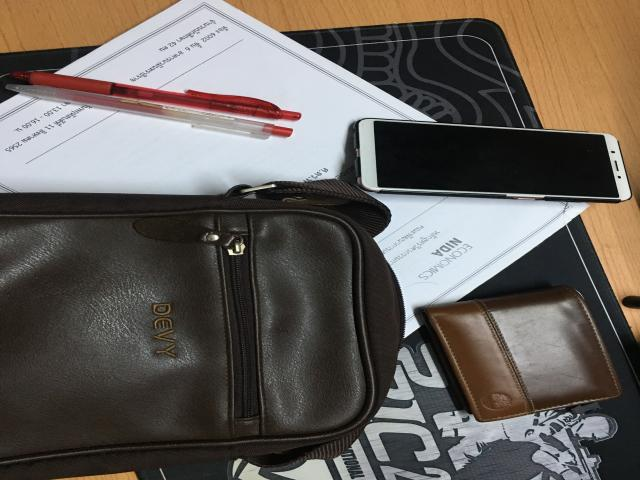Mobile phone: (357, 119, 632, 202)
Wallet: (422, 285, 622, 422)
paper: (0, 0, 432, 194), (375, 195, 587, 333)
